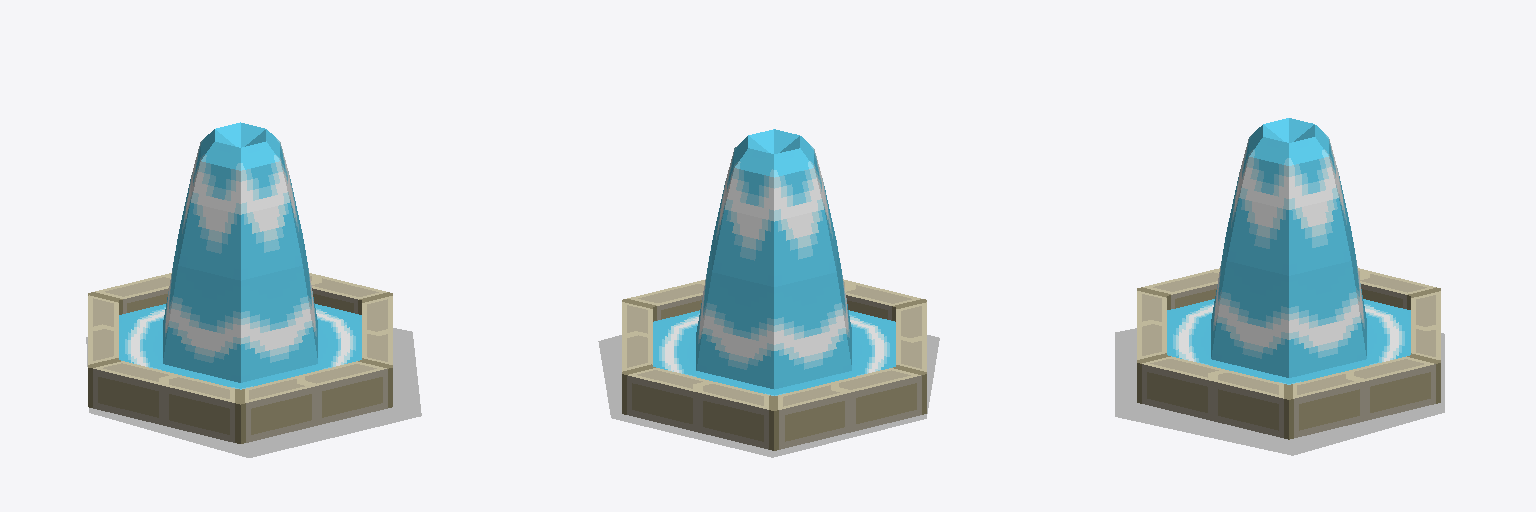
The picture shows the model from 3 angles: view 1: azimuth 30°, elevation 25°; view 2: azimuth 150°, elevation 25°; view 3: azimuth 270°, elevation 25°; orthographic projection.
Parts seen in each view (by area): view 1: polygon2, polygon1, polygon0; view 2: polygon2, polygon1, polygon0; view 3: polygon2, polygon1, polygon0.
Boxes of the visible parts, x1,y1,x2,y2 form: polygon2: [119, 122, 361, 389]; polygon1: [88, 273, 392, 443]; polygon0: [86, 328, 421, 457]; polygon2: [653, 129, 895, 395]; polygon1: [622, 279, 926, 450]; polygon0: [598, 335, 939, 457]; polygon2: [1167, 118, 1410, 384]; polygon1: [1137, 268, 1440, 439]; polygon0: [1115, 328, 1444, 455].
Size of the model in its own units: 8.15 by 5.73 by 7.12.
3 materials, 2 textured.